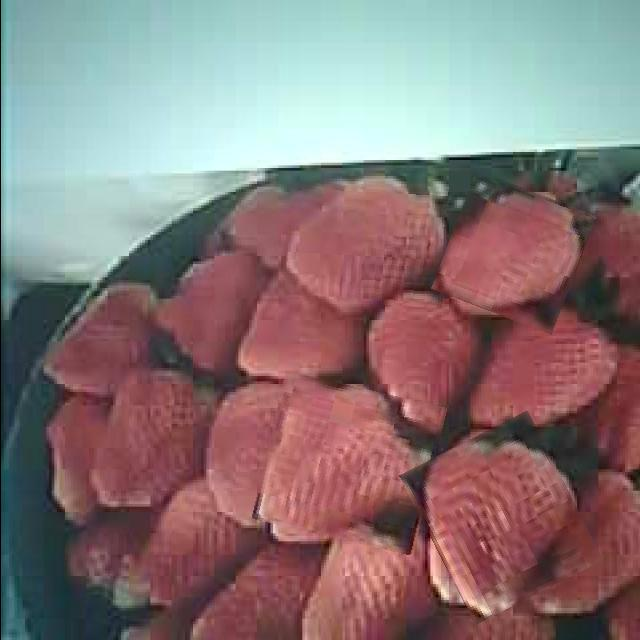strawberry: (413, 422, 587, 614), (259, 379, 439, 547), (439, 180, 586, 326), (286, 184, 446, 306)
